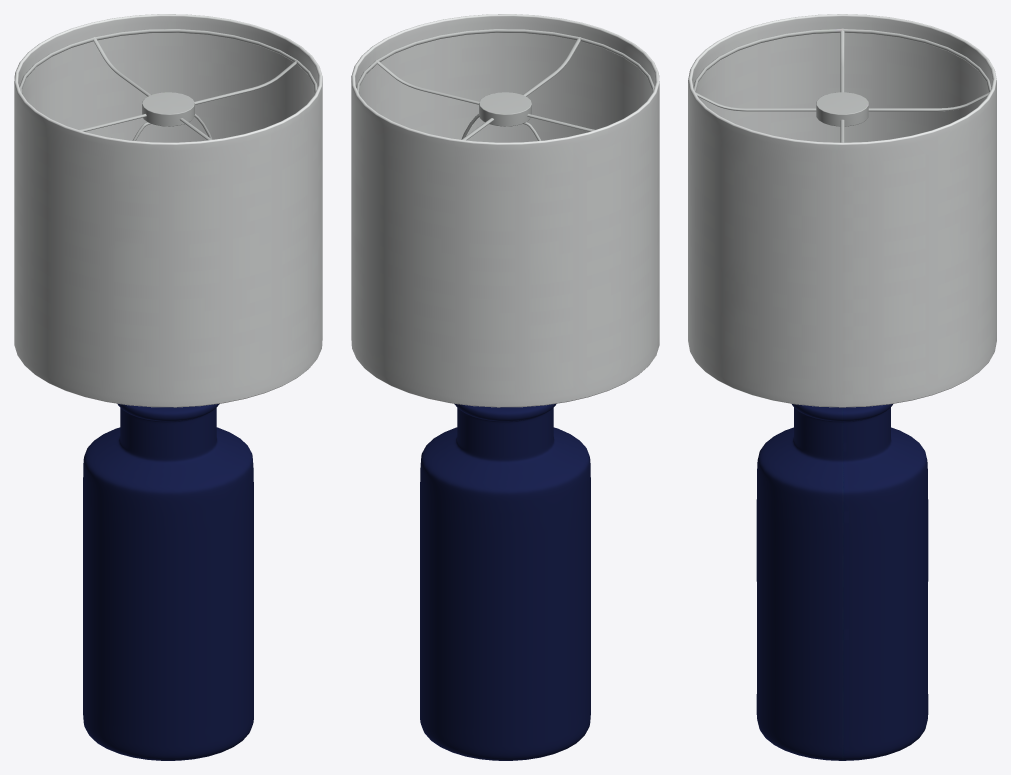
Rendered from abo-B07MBFCRBJ.glb.
3 views of the same model, side by side, from view 1: azimuth 30°, elevation 25°; view 2: azimuth 150°, elevation 25°; view 3: azimuth 270°, elevation 25° (orthographic).
Size of the model in its own units: 0.212 by 0.493 by 0.212.
1 material, 1 textured.
